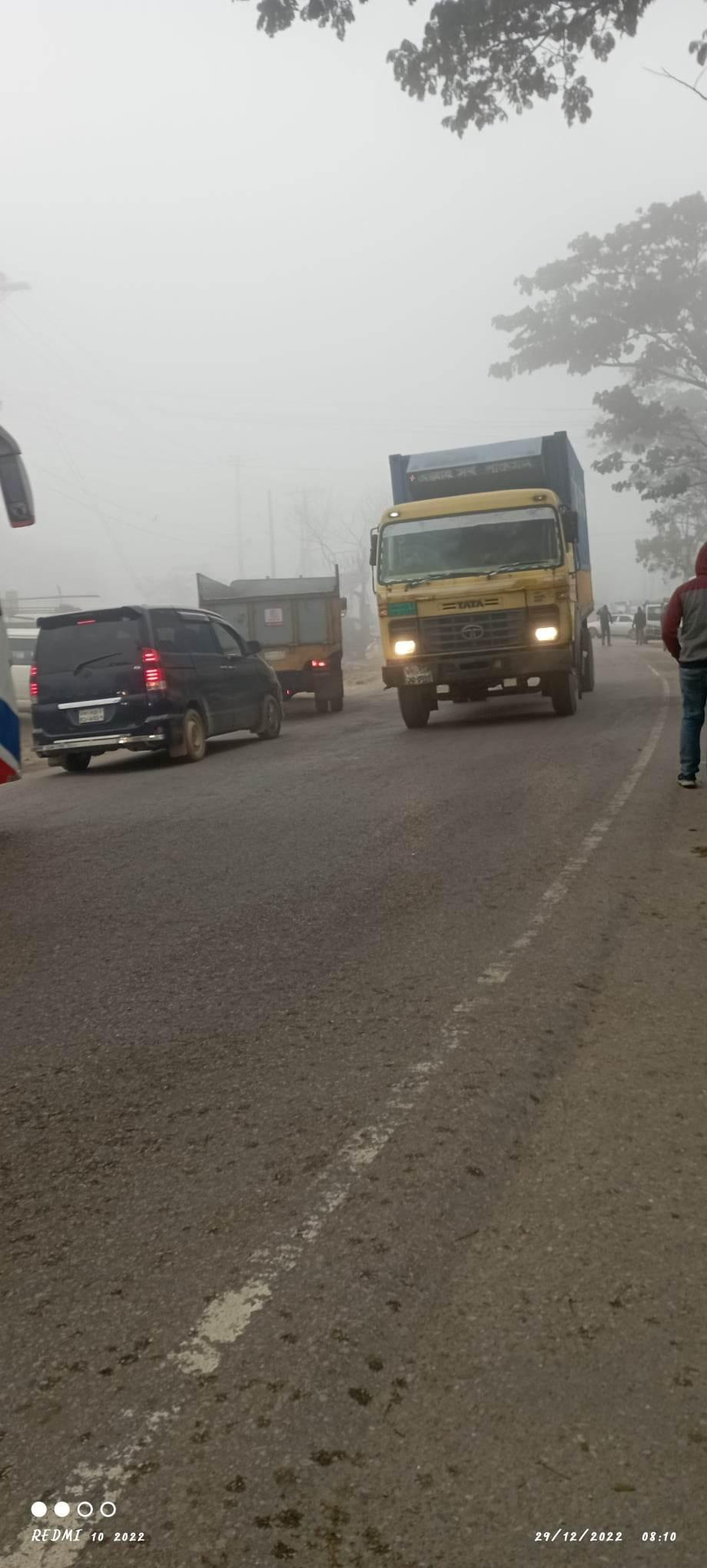Car: (22, 593, 297, 774)
Truck: (361, 414, 624, 751), (188, 542, 358, 726)
